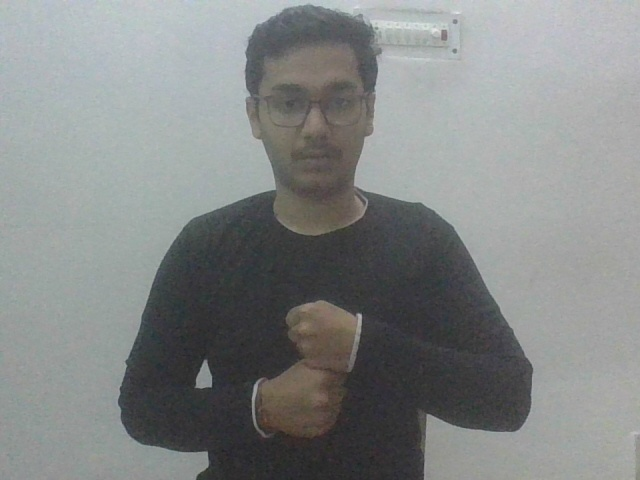G: (256, 295, 362, 443)
